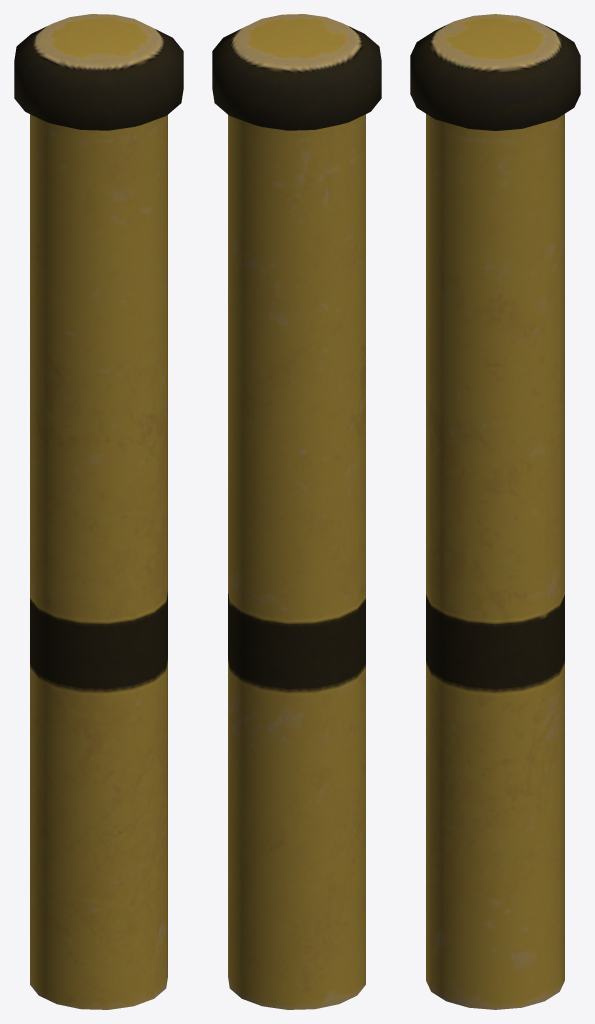
File: Column_02.fbx
The picture shows the model from 3 angles, left to right: view 1: azimuth 30°, elevation 25°; view 2: azimuth 150°, elevation 25°; view 3: azimuth 270°, elevation 25°; orthographic projection.
Parts seen in each view (by area): view 1: Column_02_LOD0; view 2: Column_02_LOD0; view 3: Column_02_LOD0.
Boxes of the visible parts, box(x1,y1,x2,y2) form: Column_02_LOD0: box(14, 14, 183, 1009); Column_02_LOD0: box(212, 14, 381, 1009); Column_02_LOD0: box(410, 14, 580, 1009).
Size of what is drawn, in the model's own units: 10.34 by 63.02 by 10.34.
